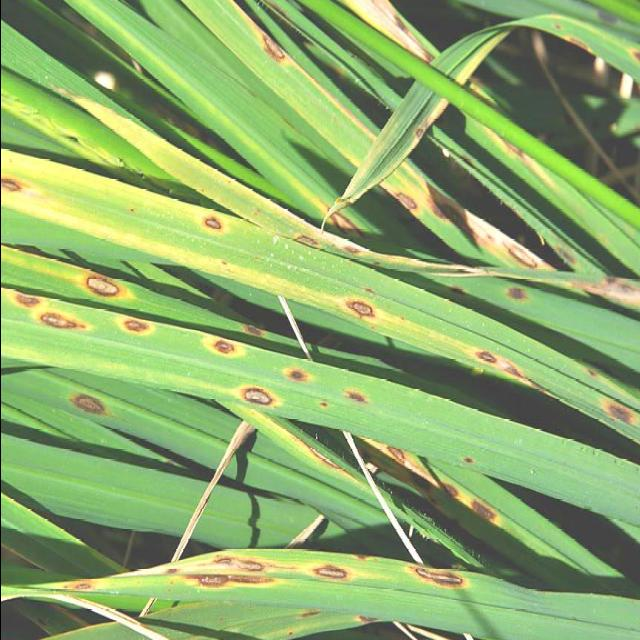Brown_Spot: (187, 548, 269, 596), (398, 558, 474, 604), (228, 380, 280, 428), (306, 553, 352, 597), (28, 310, 87, 342), (79, 268, 121, 312), (592, 389, 636, 430), (252, 26, 290, 68), (334, 292, 378, 328), (196, 334, 248, 364), (0, 286, 40, 324), (465, 486, 494, 534), (553, 24, 592, 59), (59, 391, 105, 420), (53, 576, 96, 606), (109, 314, 153, 342), (497, 273, 527, 311), (0, 169, 31, 205), (497, 241, 532, 270), (190, 211, 226, 239), (465, 342, 493, 376), (391, 187, 416, 219), (623, 35, 640, 79), (342, 386, 366, 416), (456, 456, 476, 474)
